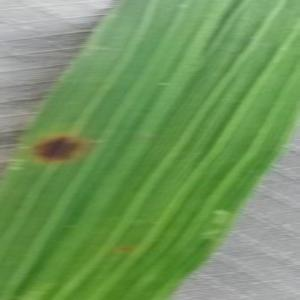Brown_Spot: (15, 118, 95, 178)
